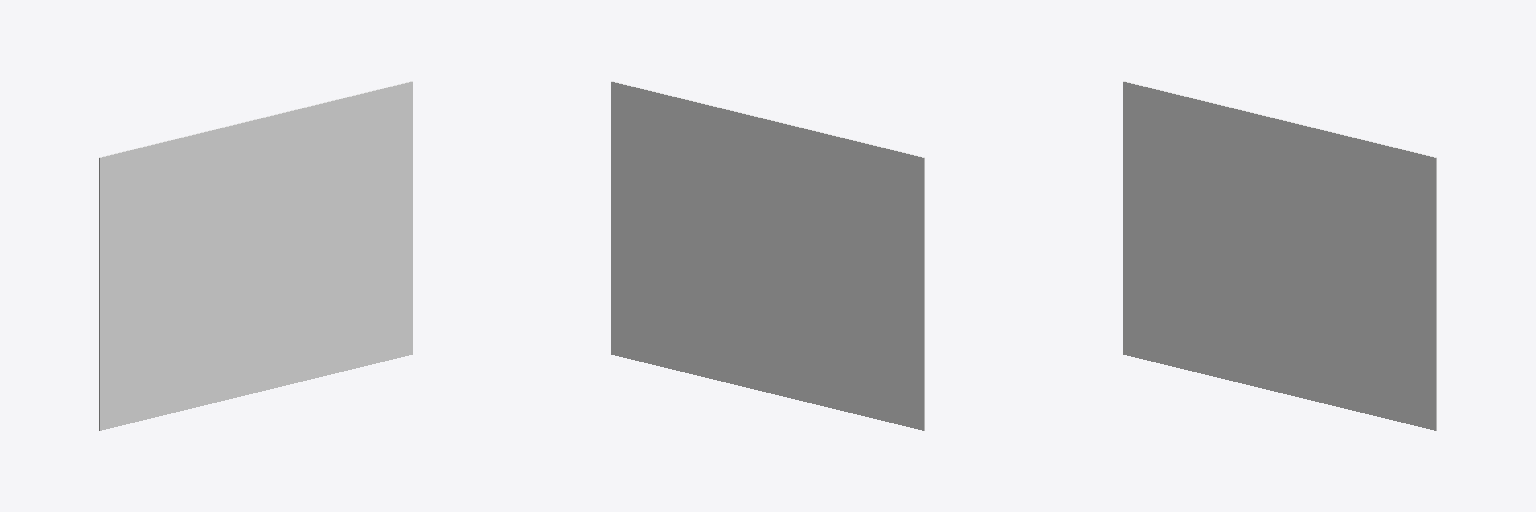
Rendered from Picture4anim.obj.
3 renders of one model, left to right at view 1: azimuth 30°, elevation 25°; view 2: azimuth 150°, elevation 25°; view 3: azimuth 330°, elevation 25°, orthographic.
Parts seen in each view (by area): view 1: object 1; view 2: object 1; view 3: object 1.
Boxes of the visible parts, x1=… form: object 1: x1=99, y1=81, x2=412, y2=430; object 1: x1=611, y1=81, x2=924, y2=430; object 1: x1=1123, y1=81, x2=1436, y2=430.
Bounding box in the file's own units: 25.6 × 21.3 × 0.1.